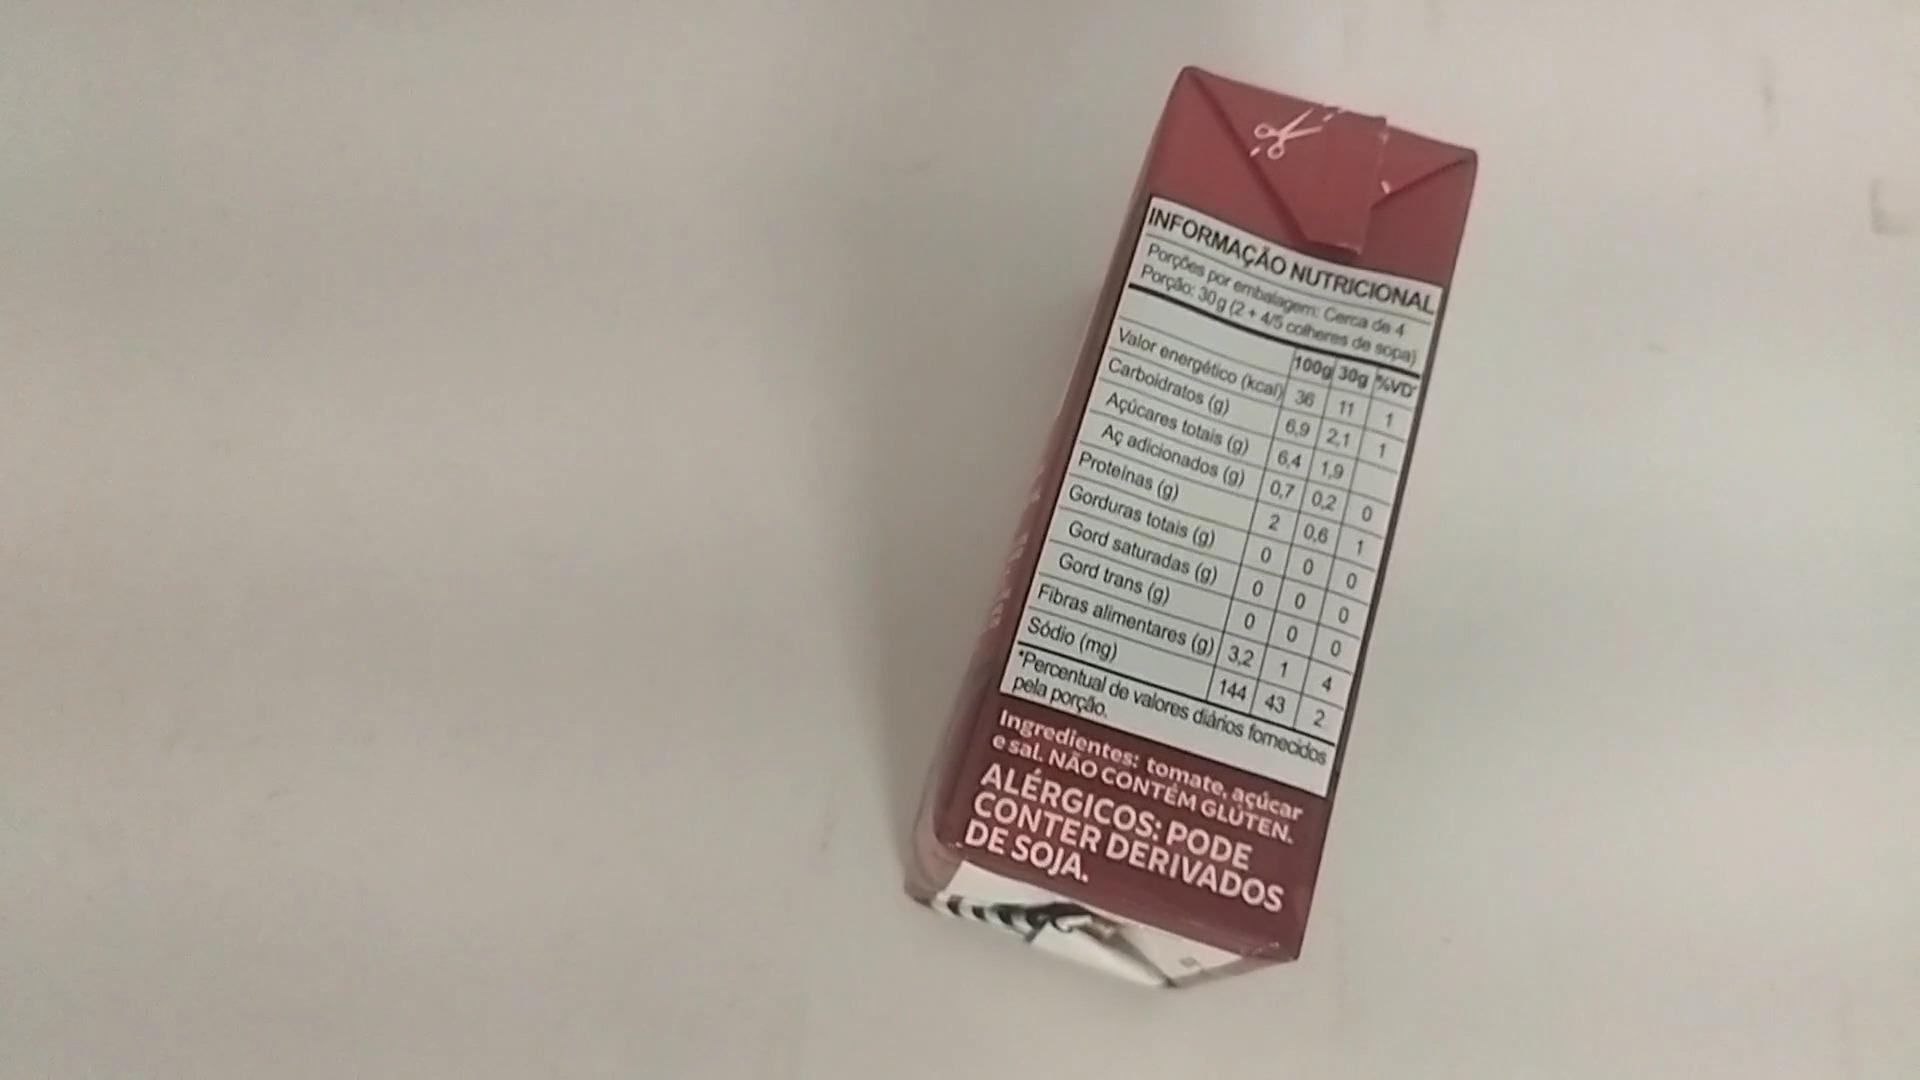tomate: (909, 65, 1474, 986)
